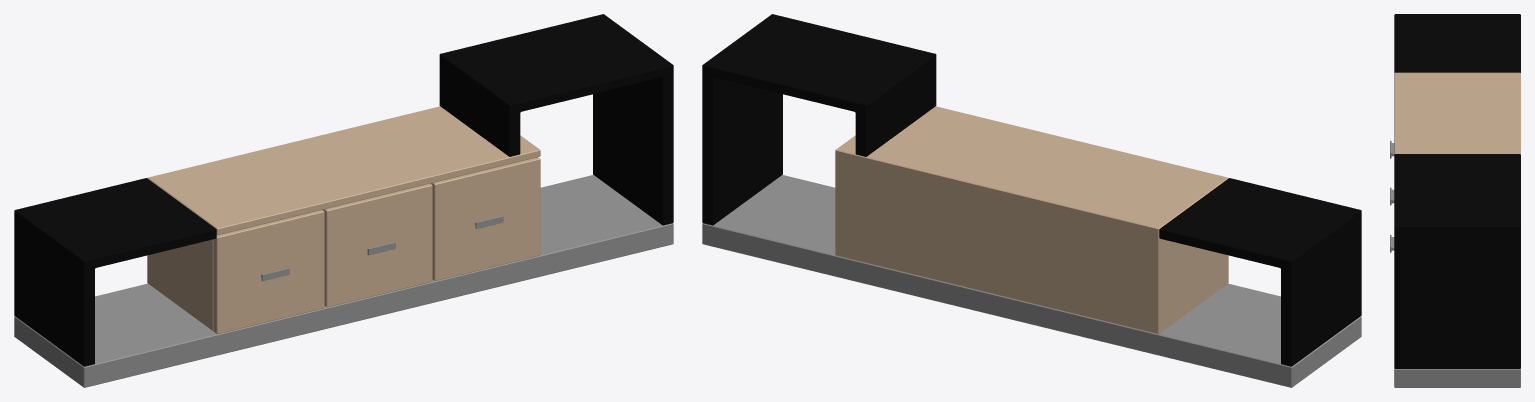
The model's file is Tv+Stand+04_fbx.FBX.
The picture shows the model from 3 angles, left to right: view 1: azimuth 30°, elevation 25°; view 2: azimuth 150°, elevation 25°; view 3: azimuth 270°, elevation 25°; orthographic projection. The views are drawn at different scales.
Parts seen in each view (by area): view 1: TS04obj02, TS04obj01, TS04obj03; view 2: TS04obj02, TS04obj01, TS04obj03; view 3: TS04obj01, TS04obj02, TS04obj03.
Boxes of the visible parts, x1=… form: TS04obj02: x1=147, y1=106, x2=540, y2=334; TS04obj01: x1=14, y1=14, x2=673, y2=366; TS04obj03: x1=14, y1=175, x2=673, y2=387; TS04obj02: x1=835, y1=106, x2=1228, y2=334; TS04obj01: x1=702, y1=14, x2=1361, y2=366; TS04obj03: x1=702, y1=175, x2=1361, y2=387; TS04obj01: x1=1394, y1=14, x2=1520, y2=368; TS04obj02: x1=1394, y1=72, x2=1520, y2=154; TS04obj03: x1=1390, y1=140, x2=1520, y2=387.
Bounding box in the file's own units: 87.41 × 18.62 × 25.41.
